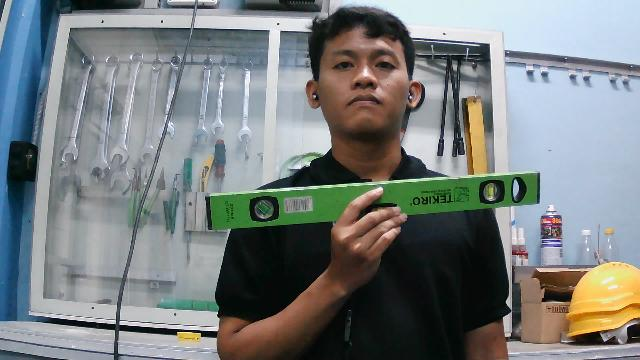water_pass: (203, 170, 541, 235)
